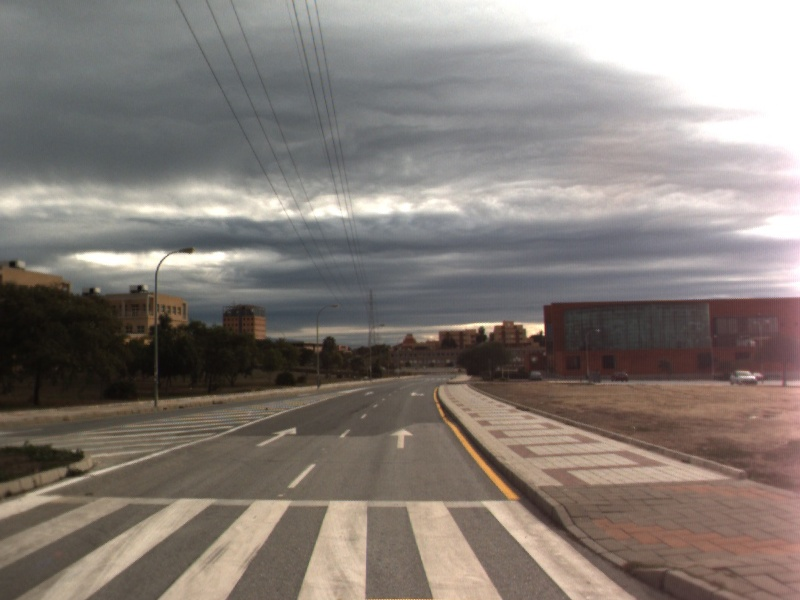STRAIGHT: (254, 425, 298, 449), (388, 426, 416, 450)
